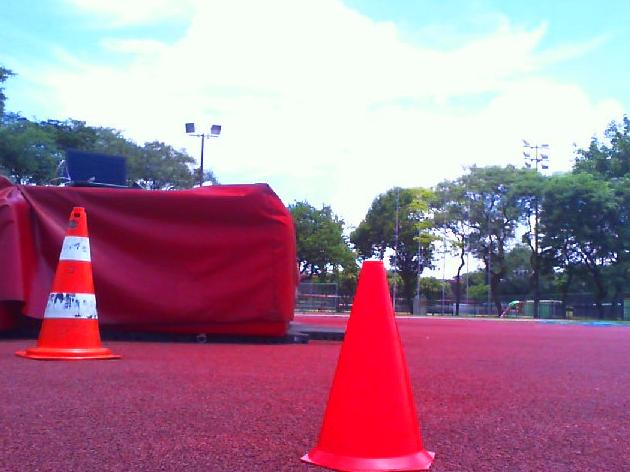0 cone: (300, 260, 436, 472), (15, 206, 121, 361)
